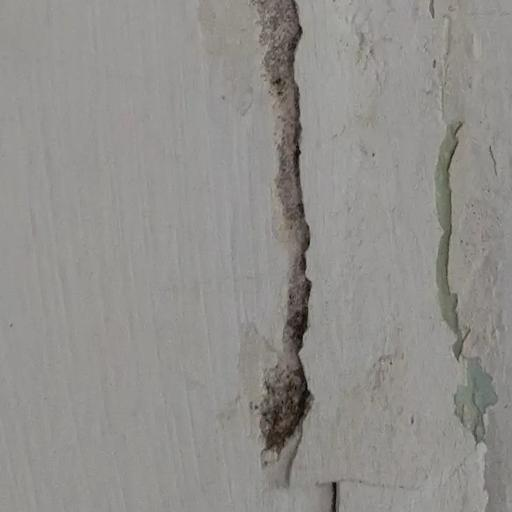major_crack: (243, 0, 334, 495)
